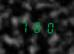eight: (31, 19, 42, 34)
seven: (18, 19, 29, 33)
zero: (43, 20, 54, 34)
